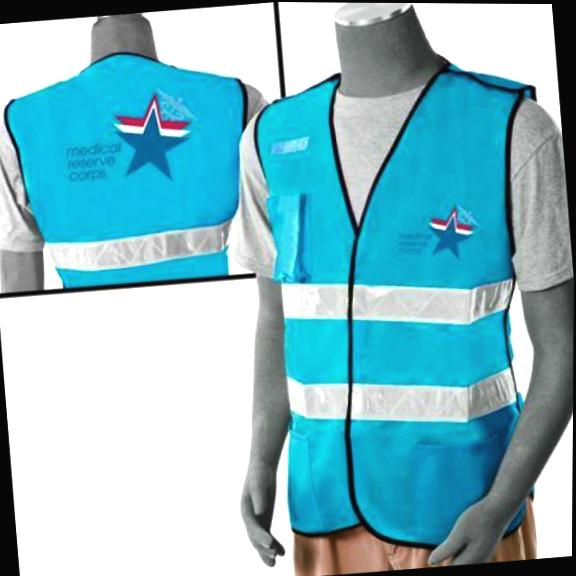safety_vest: (250, 54, 576, 562), (0, 42, 263, 296)
